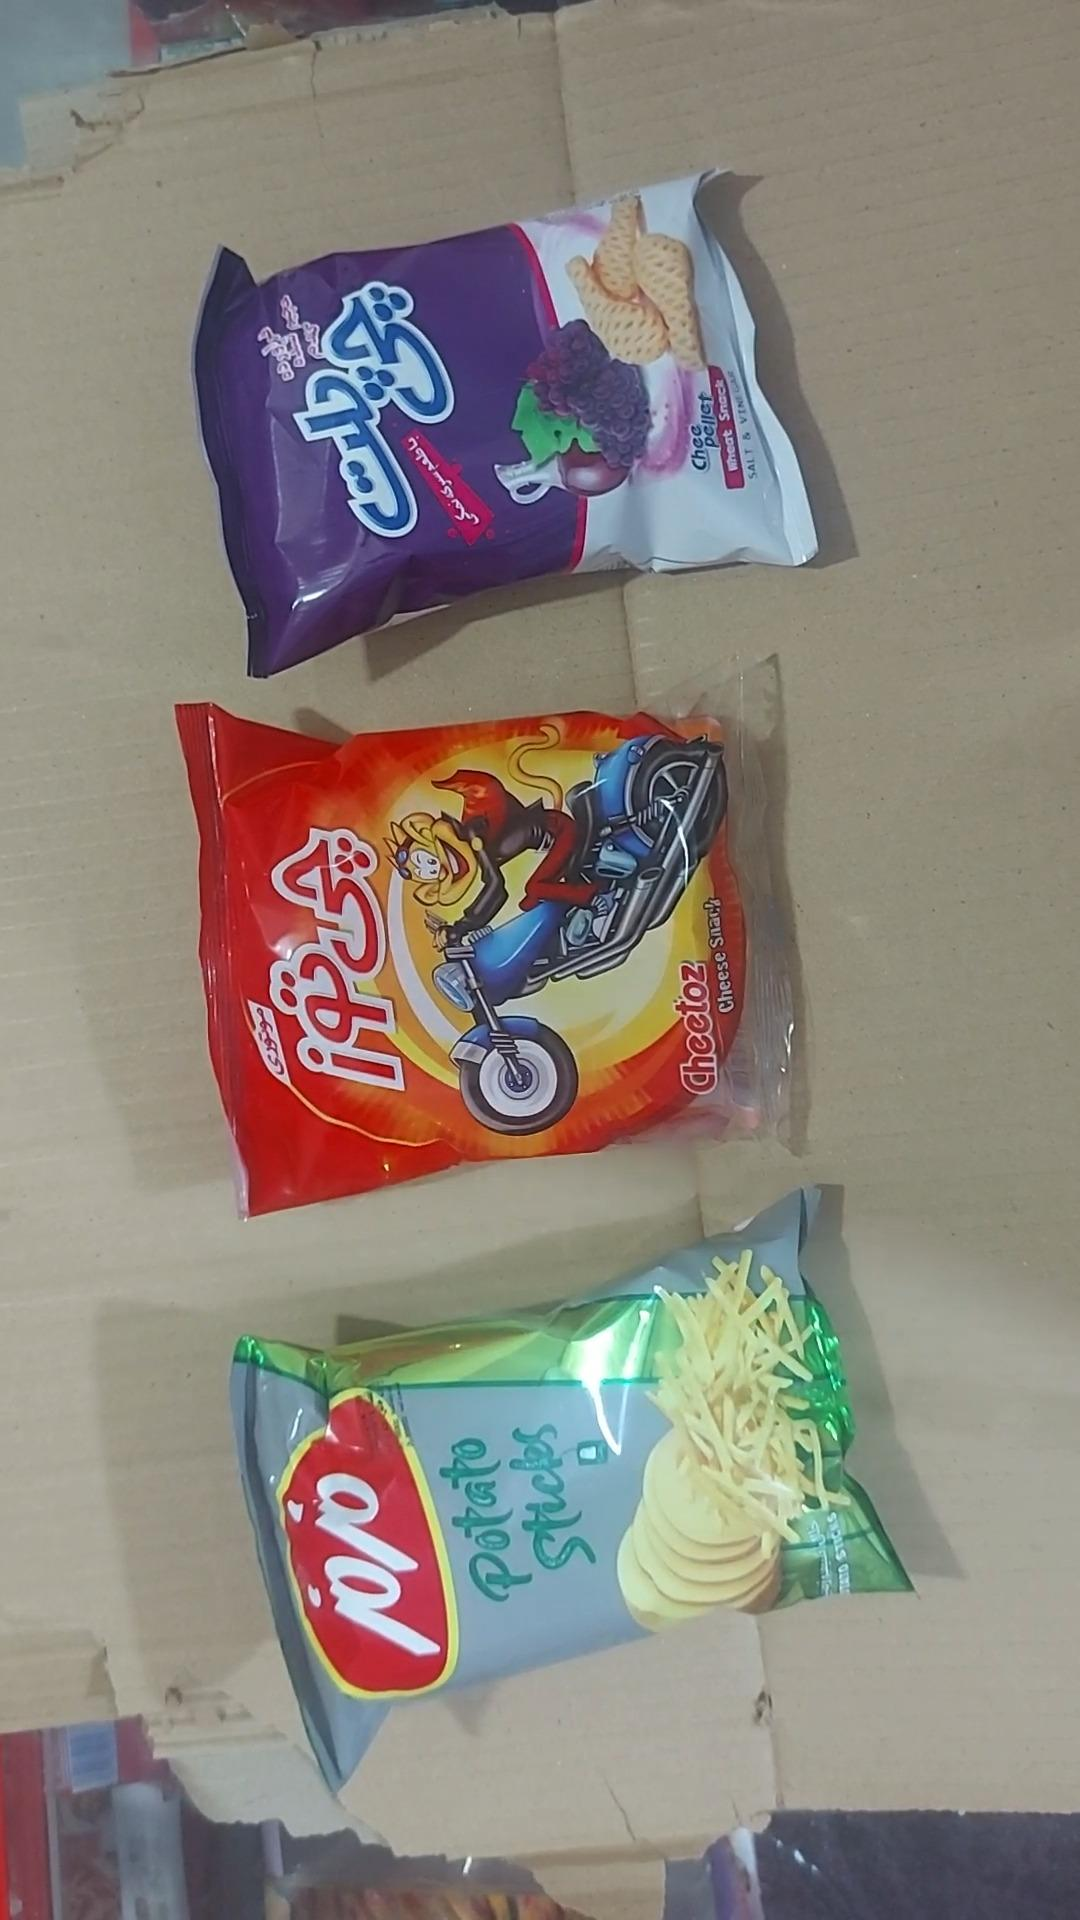Chee pellet vinegar: (189, 174, 819, 680)
Cheetoz snack 30g: (173, 654, 796, 1222)
Maz Maz potato sticks: (229, 1188, 920, 1804)
